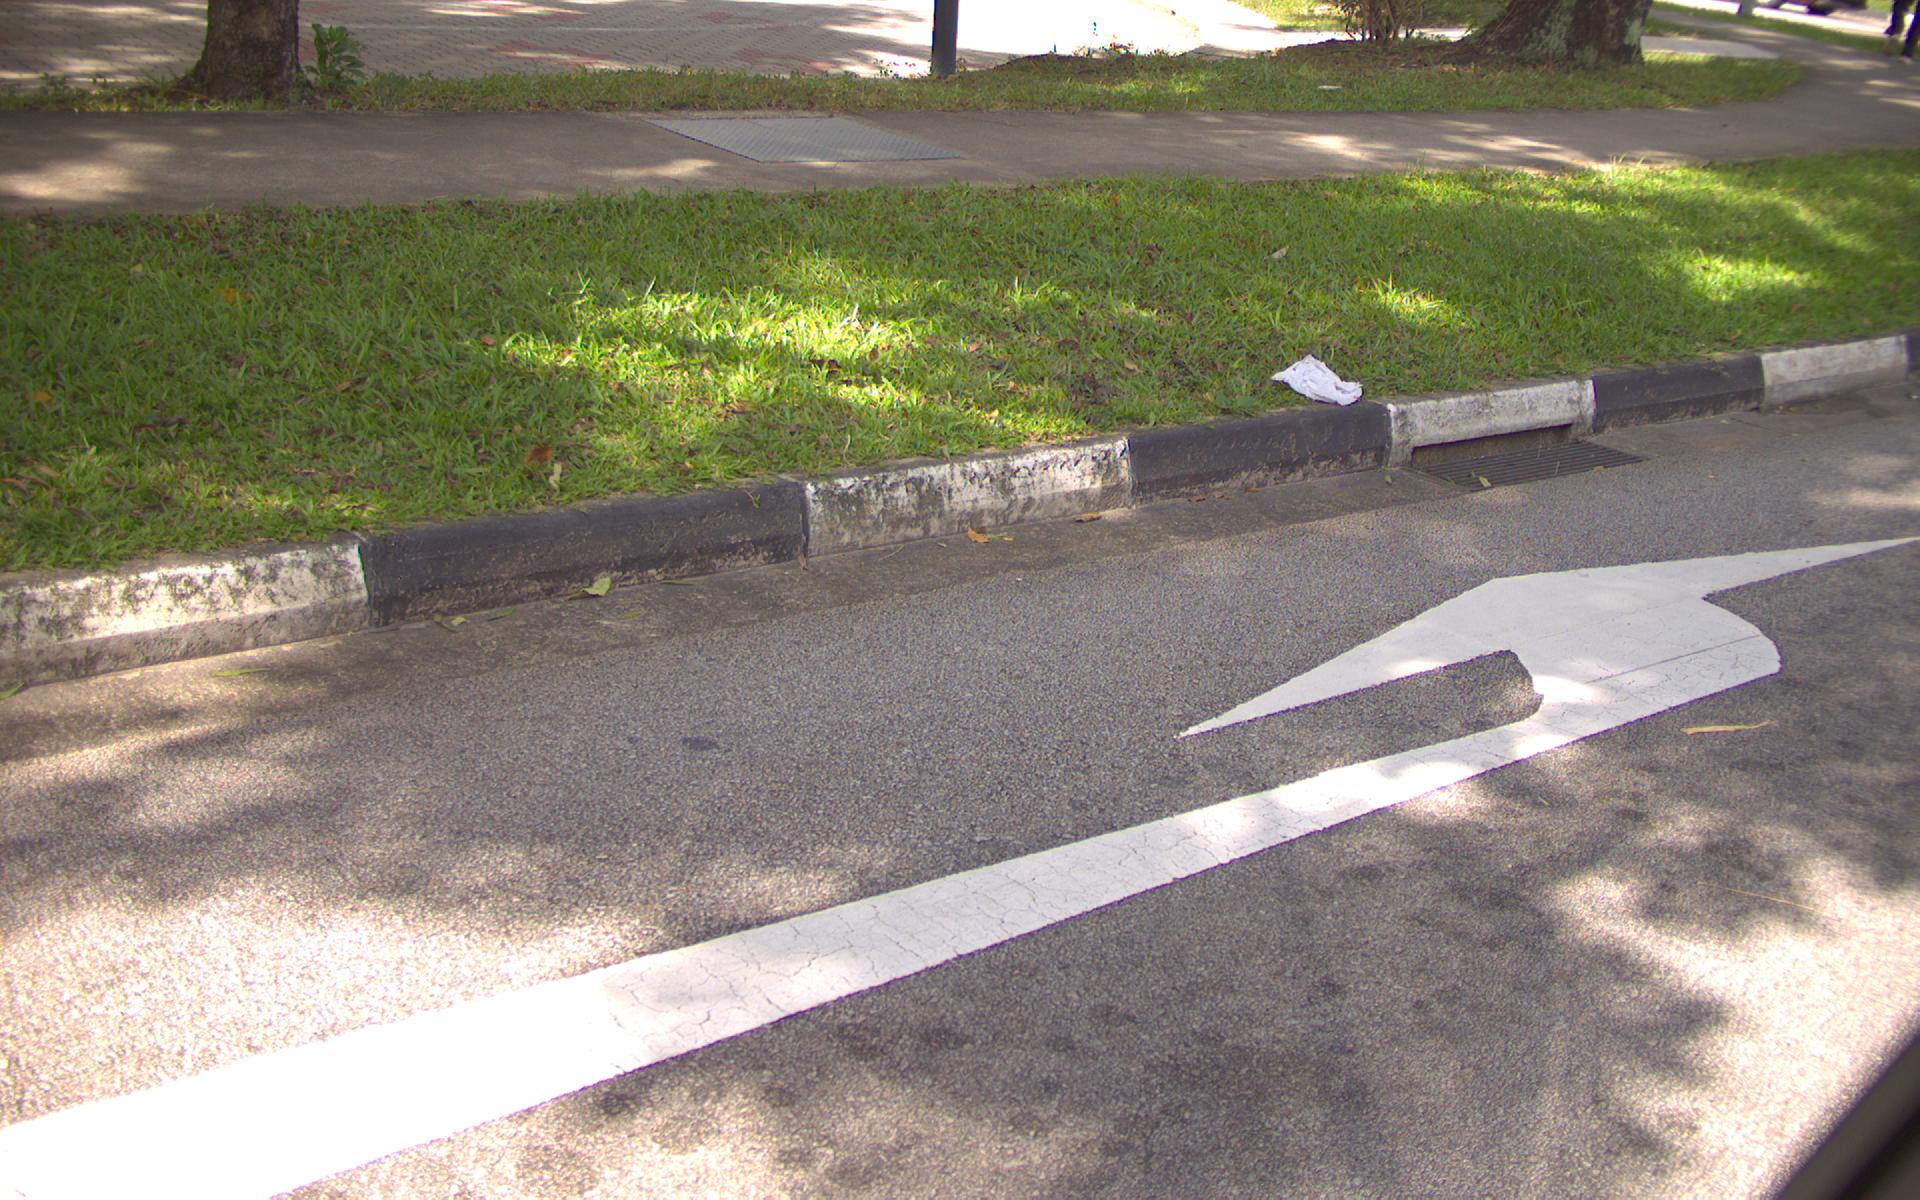curb_dic_low: (1382, 397, 1656, 495)
pathway_low: (10, 113, 1357, 182)
road_turf_low: (10, 225, 695, 460), (798, 203, 1504, 377)
